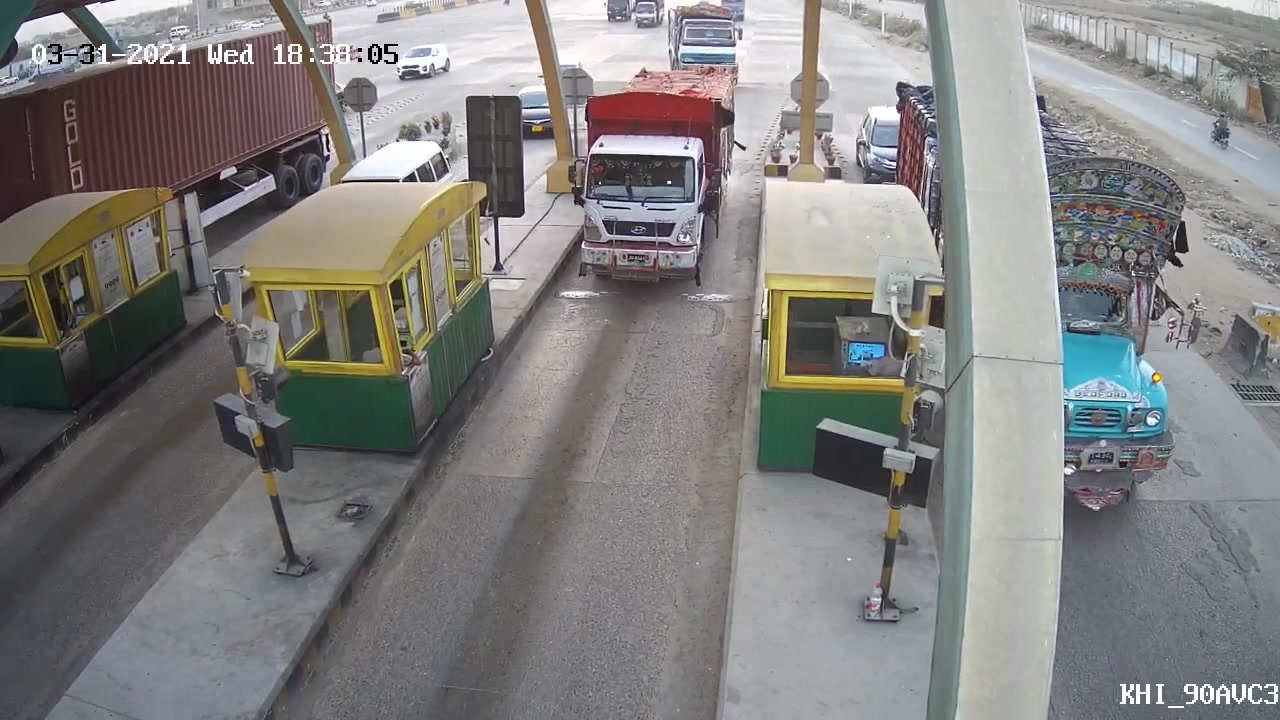F5: (552, 65, 742, 292)
